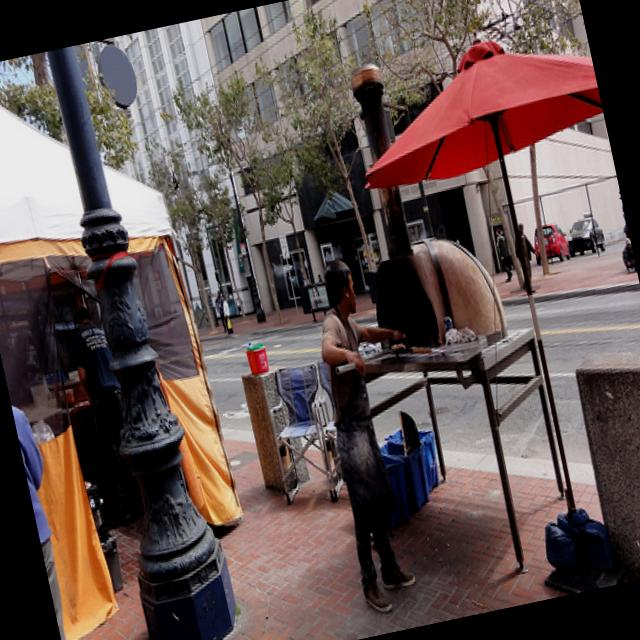Vehicle: (561, 210, 607, 260), (529, 220, 572, 266)
